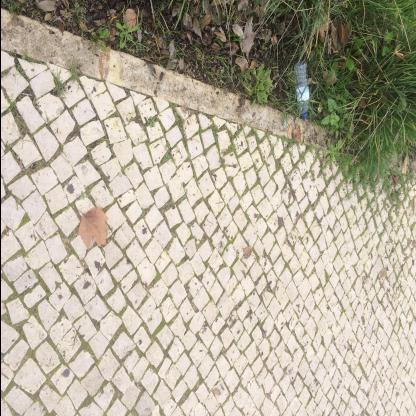plastik: (293, 62, 309, 120)
